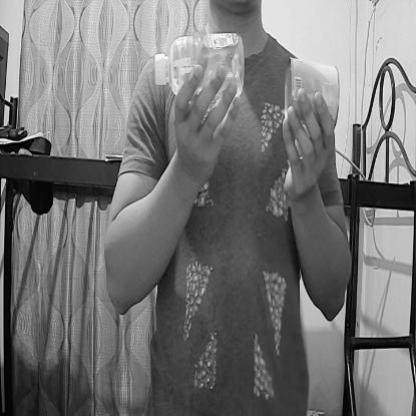Plastic Bottle: (146, 20, 269, 119)
